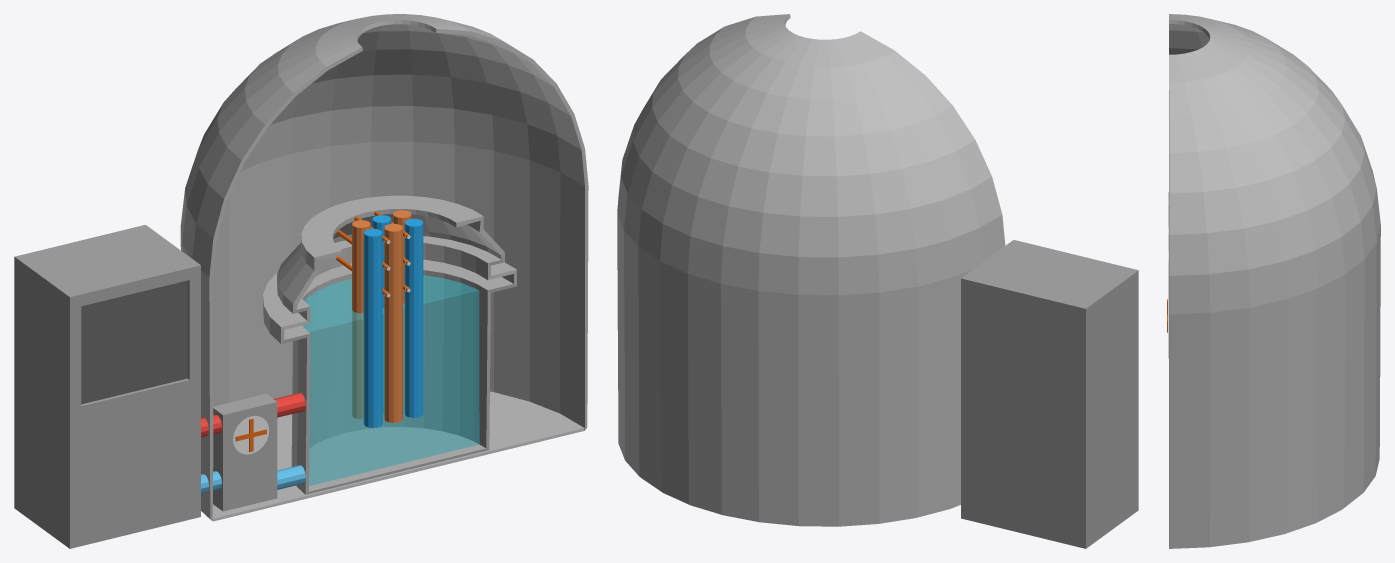
Rendered from reactor.glb.
3 views of the same model, side by side, from view 1: azimuth 30°, elevation 25°; view 2: azimuth 150°, elevation 25°; view 3: azimuth 270°, elevation 25° (orthographic). The views are drawn at different scales.
Visible parts, largest first — view 1: Cylinder, Cube.001, Cylinder.001, Water, Cube, Control 3, Control 1, Fuel 3, Fuel 1, Circle, Control 2; view 2: Cylinder, Cube.001; view 3: Cylinder.
Part boxes in pixels (x1,y1,x2,y2): Cylinder: [180, 14, 588, 521]; Cube.001: [14, 224, 200, 548]; Cylinder.001: [263, 195, 516, 494]; Water: [302, 275, 479, 485]; Cube: [213, 394, 277, 511]; Control 3: [363, 228, 382, 427]; Control 1: [404, 218, 423, 417]; Fuel 3: [384, 223, 402, 422]; Fuel 1: [352, 220, 370, 419]; Circle: [233, 415, 269, 454]; Control 2: [372, 215, 391, 413]; Cylinder: [617, 14, 1005, 526]; Cube.001: [961, 240, 1138, 548]; Cylinder: [1169, 14, 1380, 548].
Size of the model in its own units: 8.28 by 6.69 by 3.06.
